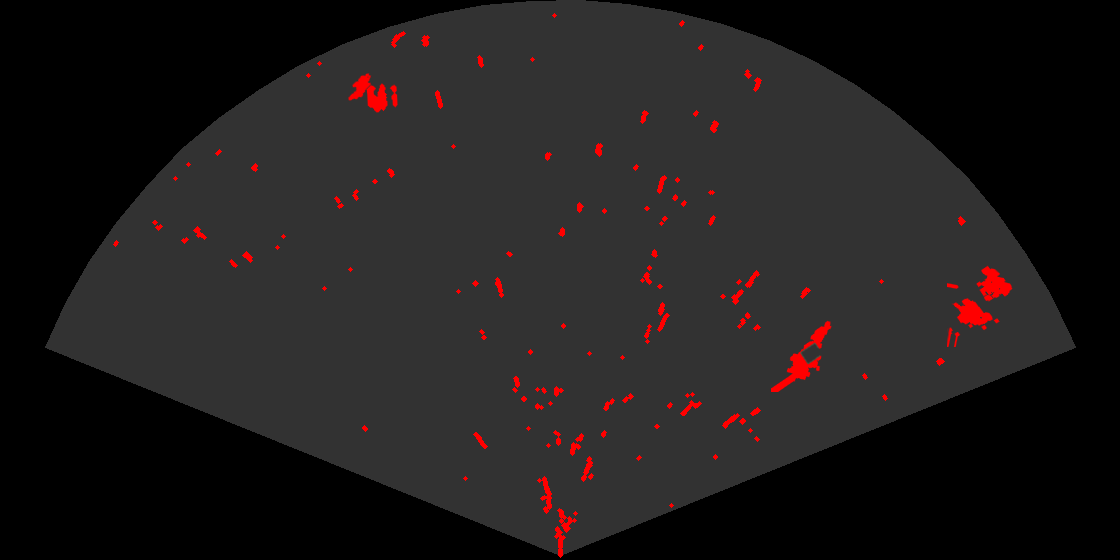AUV: (346, 72, 373, 102)
ball: (365, 82, 399, 114)
cage: (947, 264, 1014, 347)
frogman: (771, 319, 833, 392)
